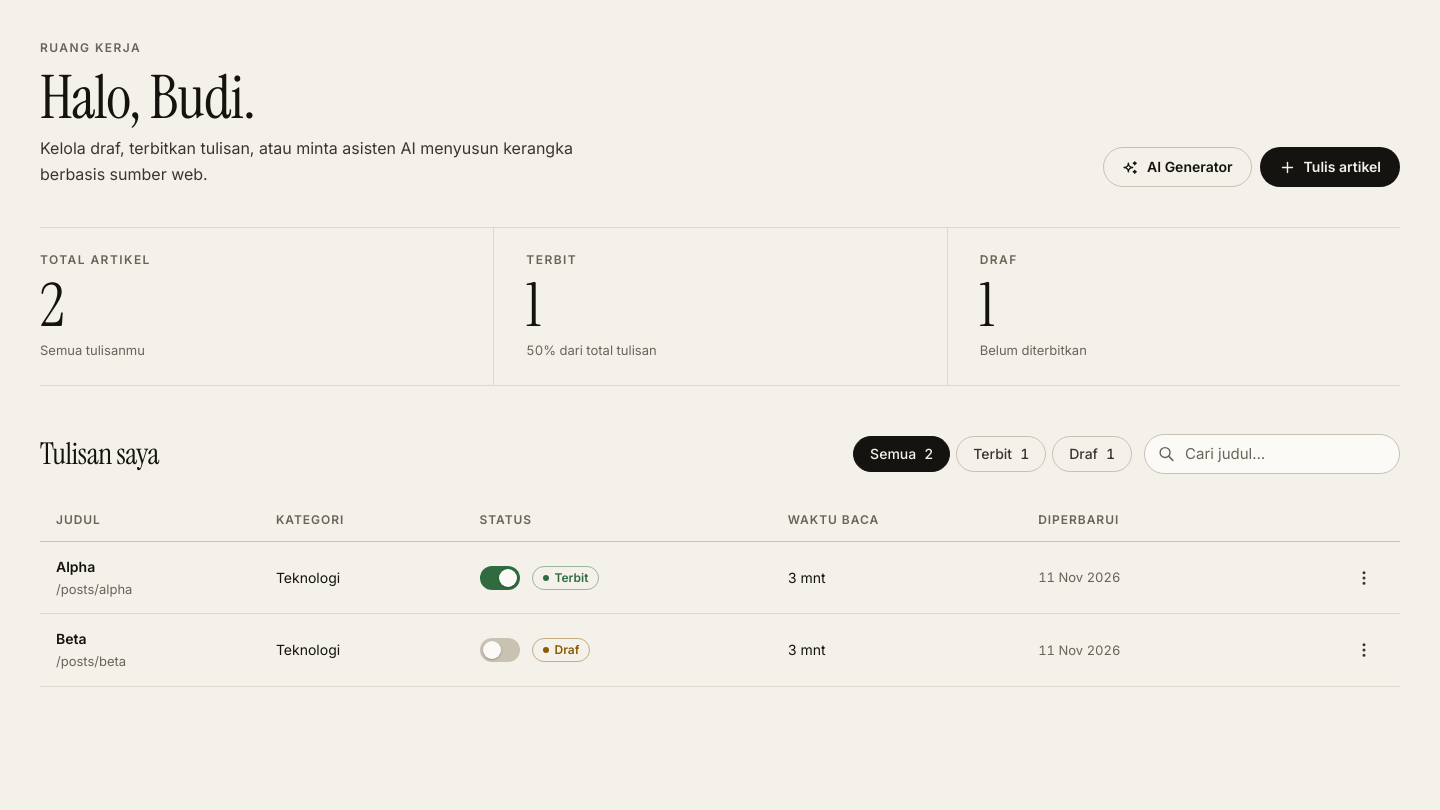
it: AuthorDashboard › filters by status and title
Check: the text "Alpha" is shown, box [56,558,95,575]
Click the button "Terbit 1" at (1001, 454), box [956,436,1046,472]
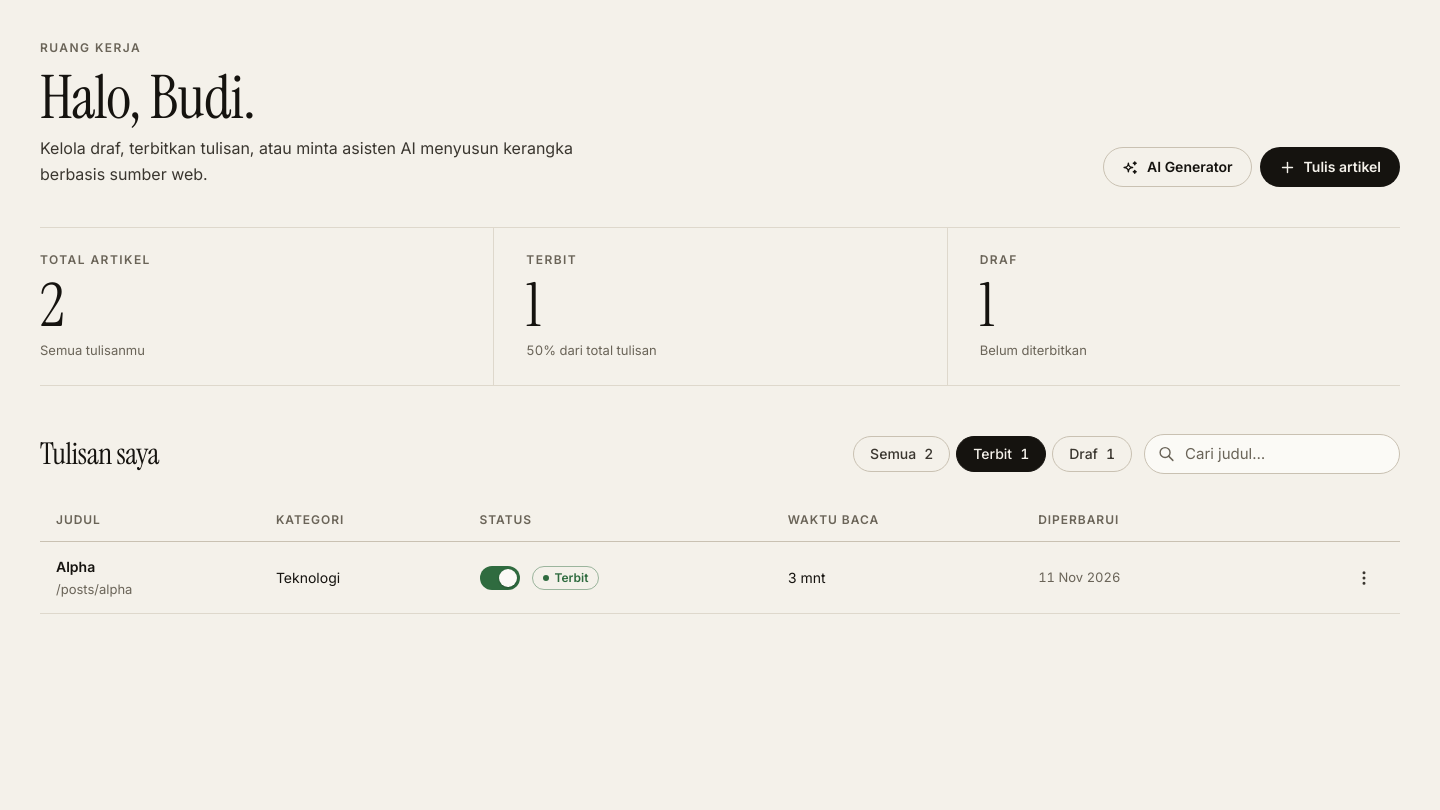
Check: the text "Beta" is gone
Click the button "Draf 1" at (1092, 454), box [1052,436,1132,472]
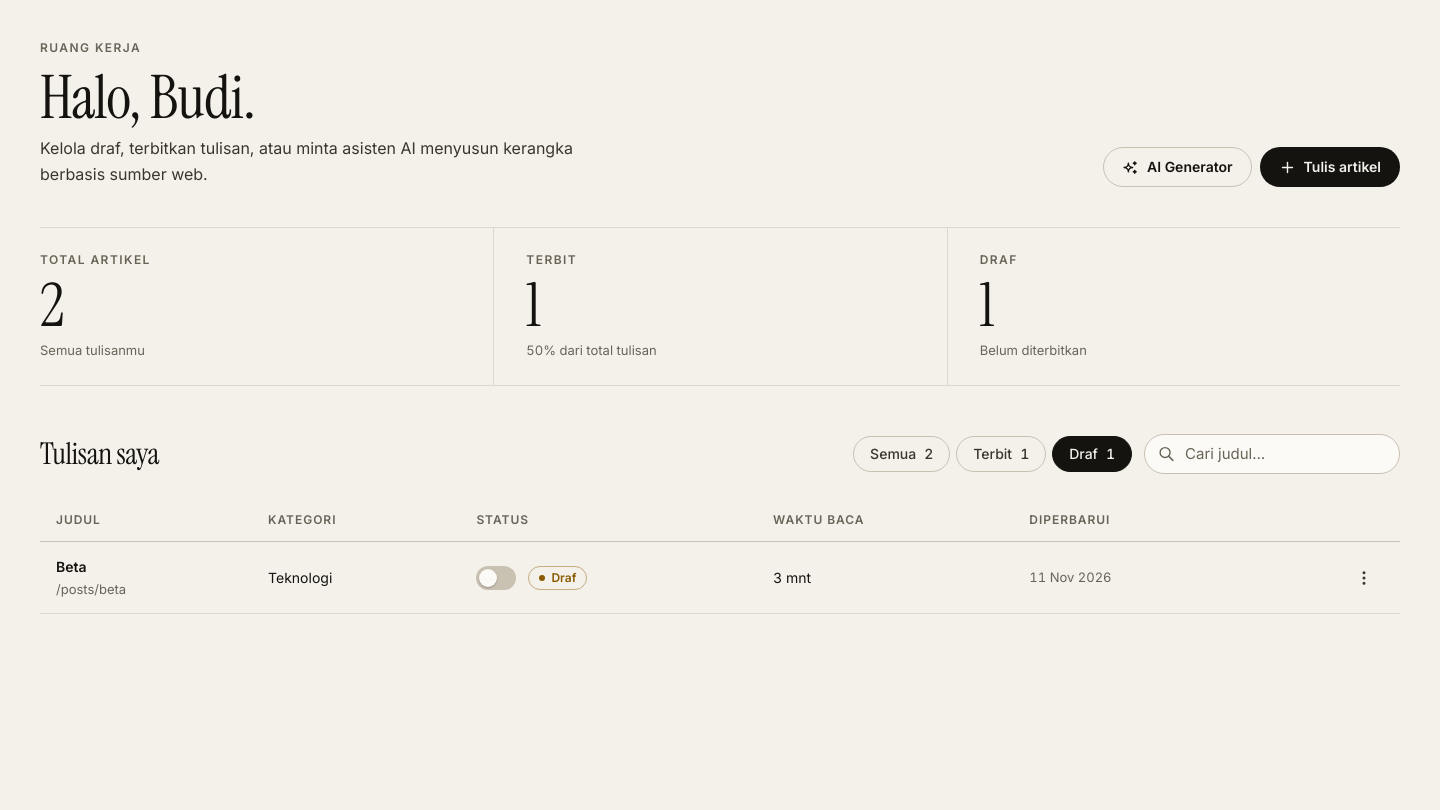
Check: the text "Alpha" is gone
Click the button "Semua 2" at (902, 454), box [853,436,950,472]
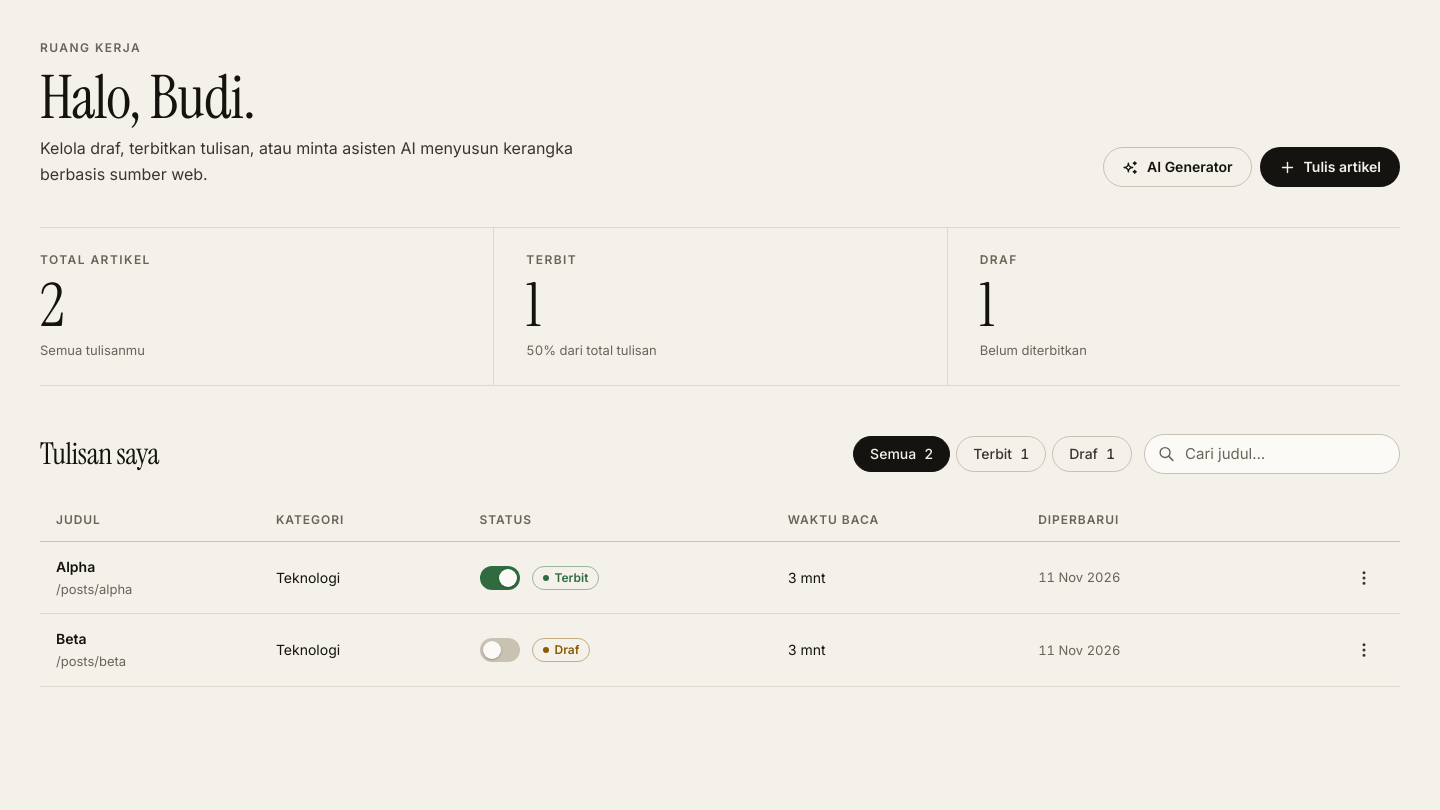
Type "ALP" into the search field named "Cari tulisan" at (1272, 454), box [1144,434,1400,474]
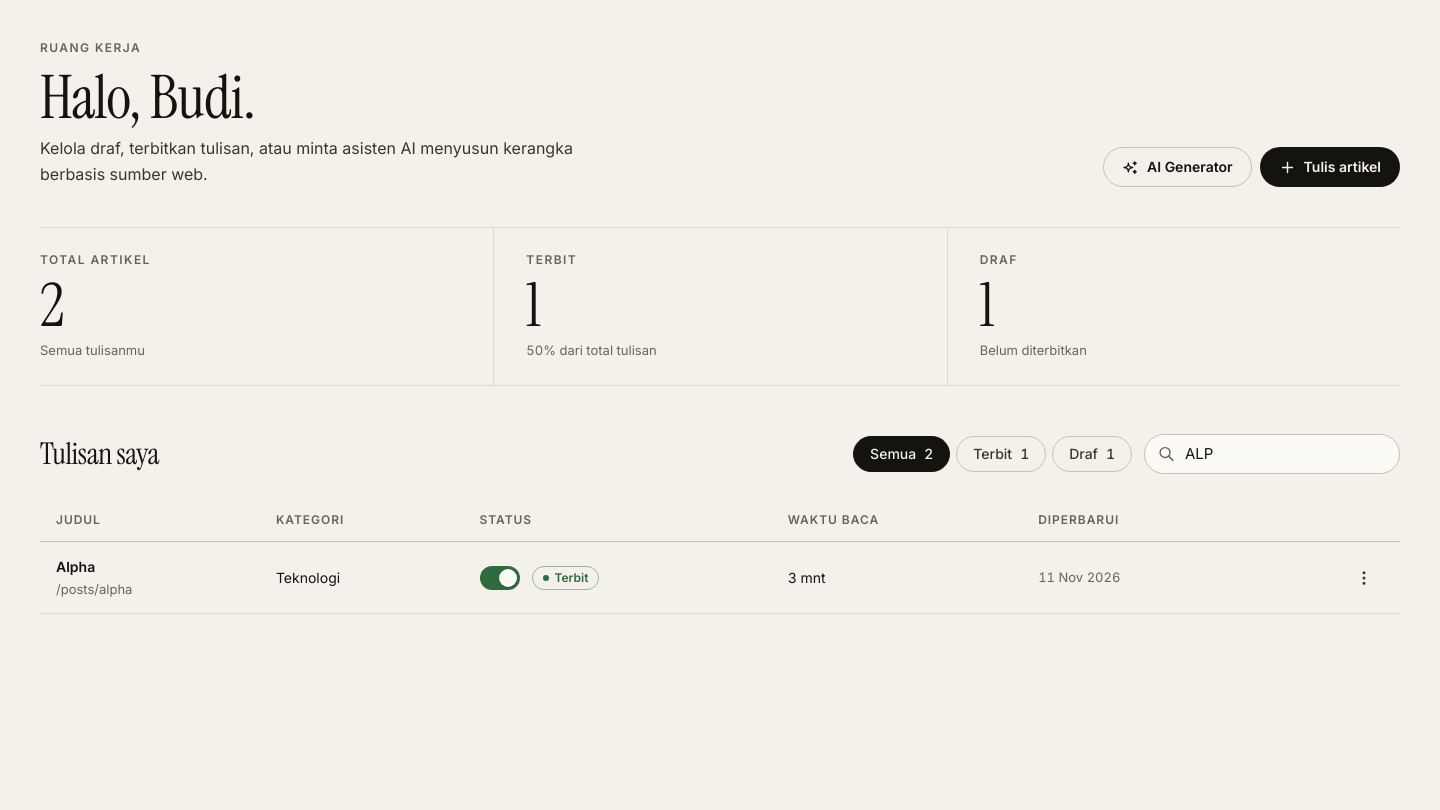
Check: the text "Alpha" is shown, box [56,558,95,575]
Check: the text "Beta" is gone
Replace the text in the search field named "Cari tulisan" with "zzz" at (1272, 454), box [1144,434,1400,474]
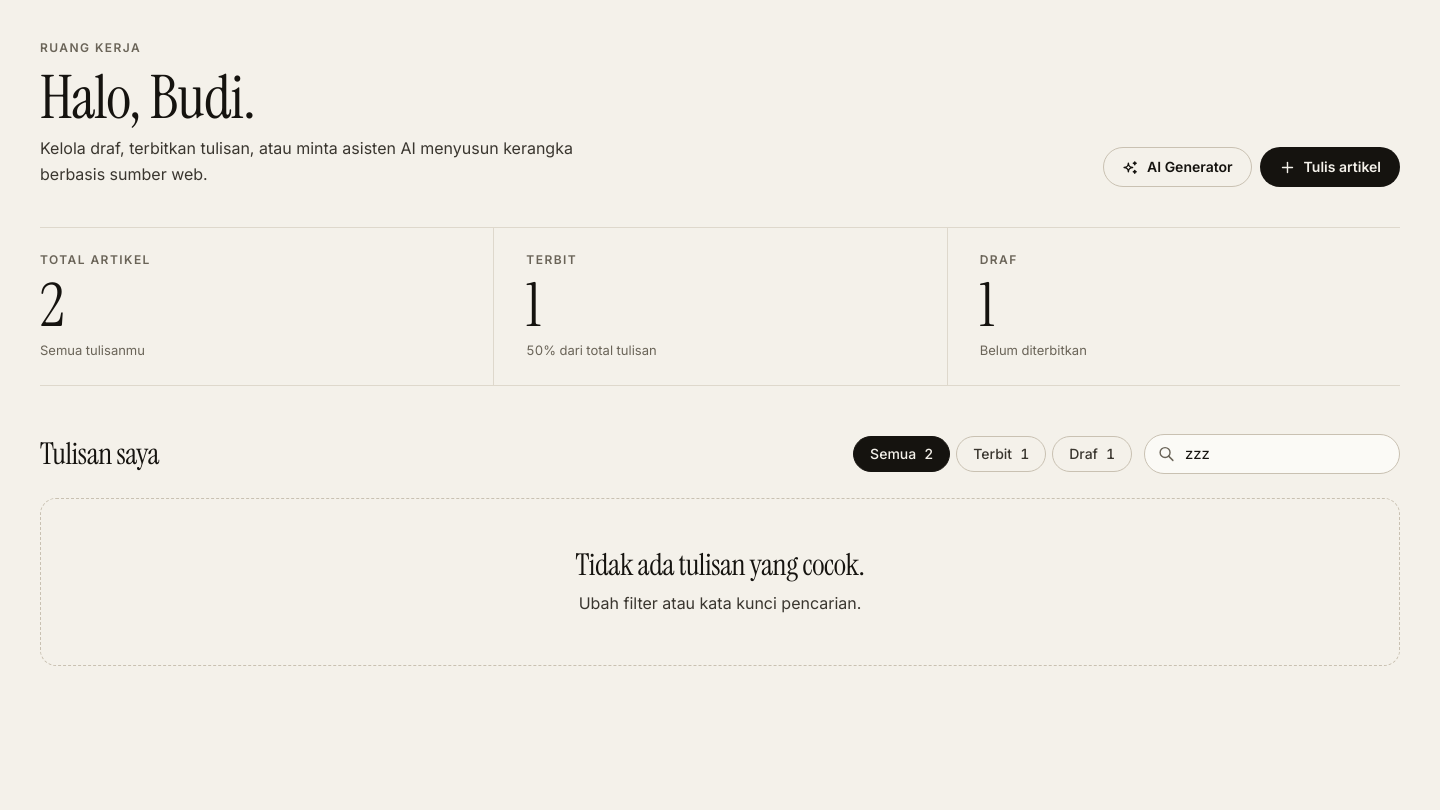
Check: the text "Tidak ada tulisan yang cocok." is shown, box [576,545,864,584]
